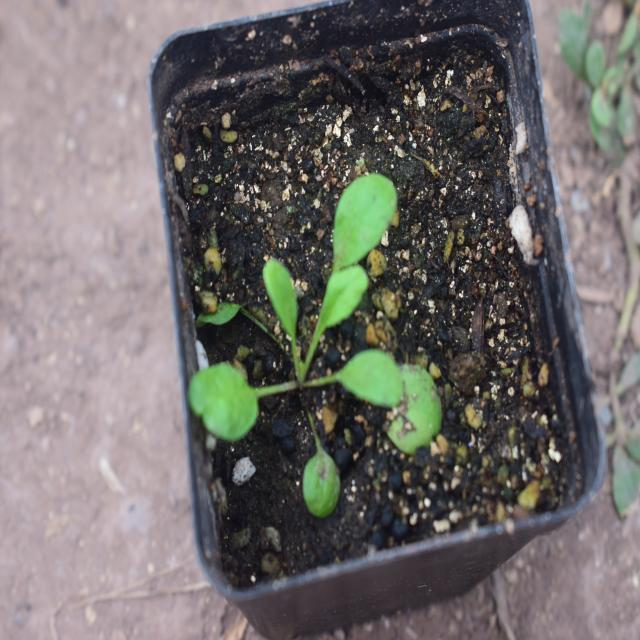Shepherd_Purse: (198, 166, 456, 494)
